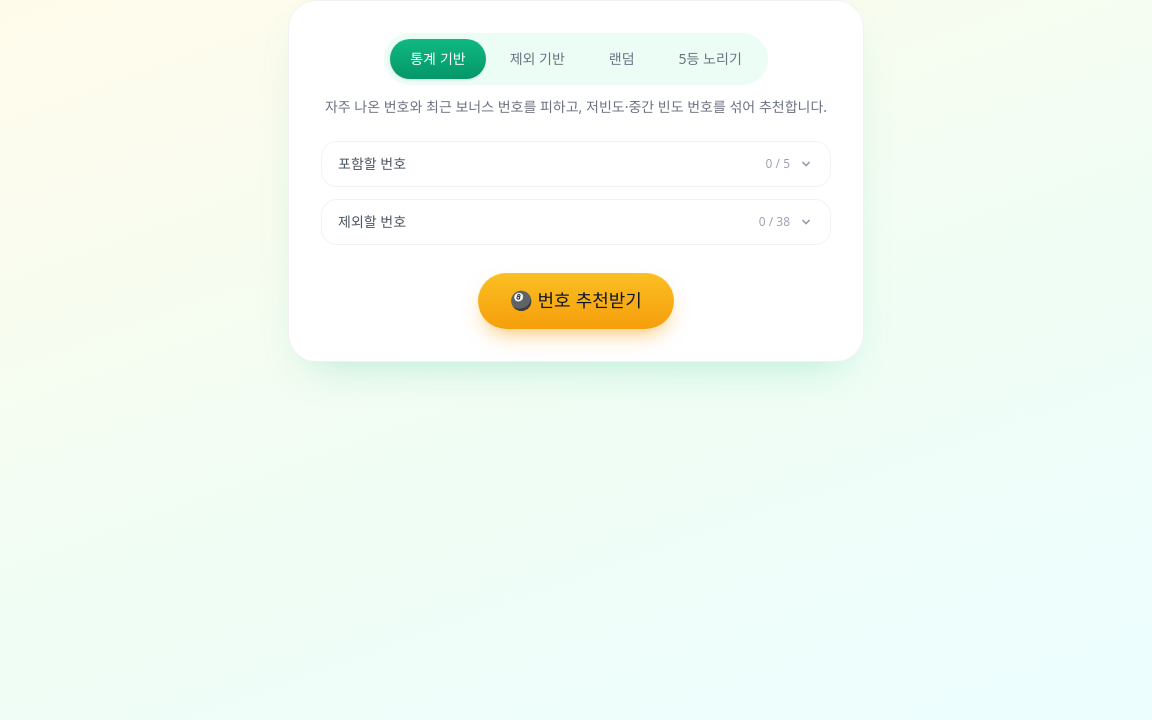
Test: RecommenderClient › shows the Kakao share button after numbers are generated
Step 1. Click the button "🎱 번호 추천받기" → (576, 301), box top-left (478, 273), bottom-right (674, 329)
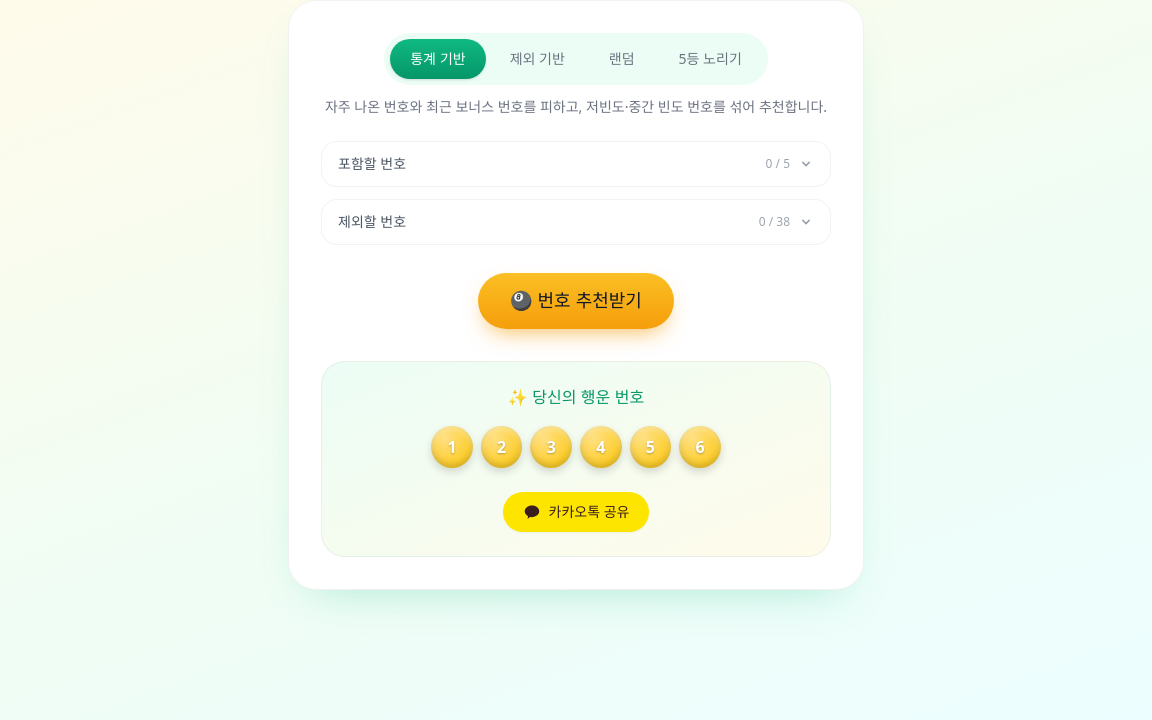
Check: the button with aria-label "카카오톡으로 행운로또 공유하기" is shown, box top-left (502, 492), bottom-right (649, 532)
